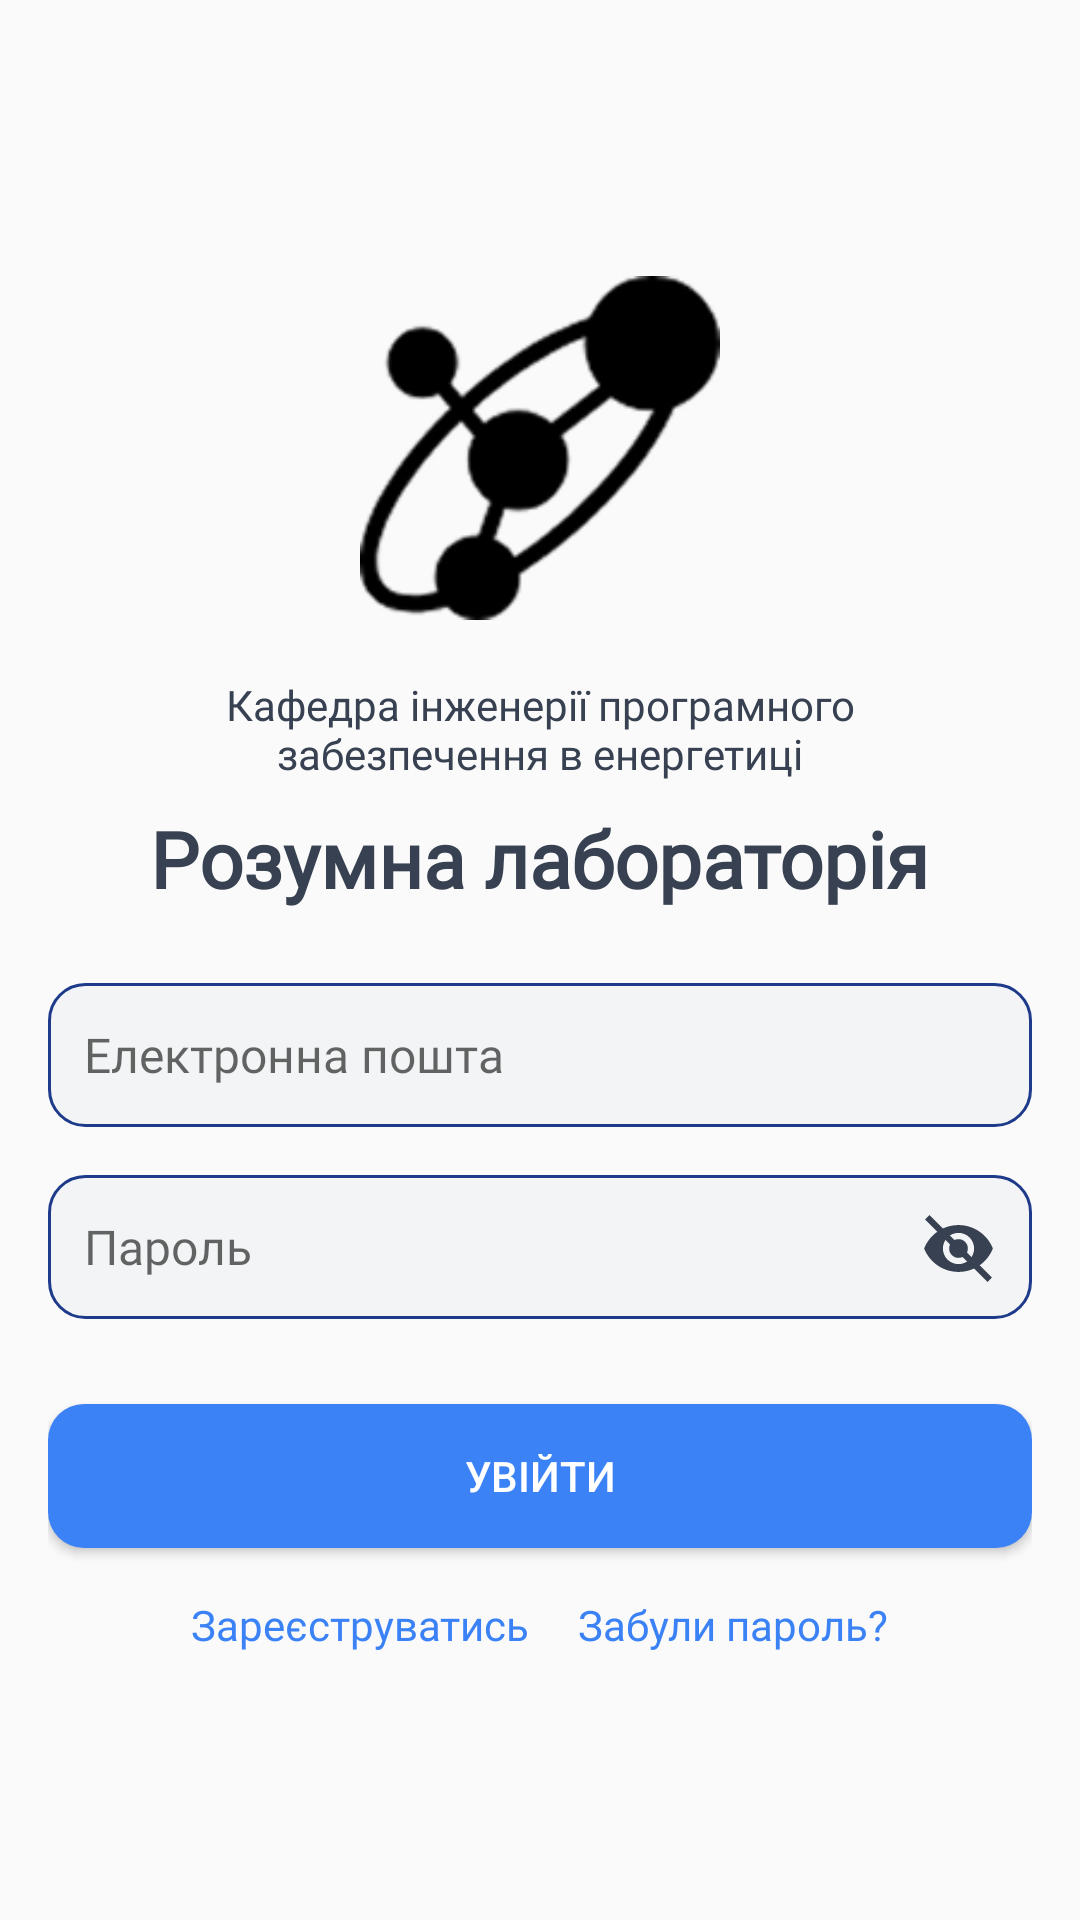

Icon bounding boxes for this 1080w x 1920h phone screenshot, format (x1, y1, x2, y2):
eye closed: (924, 1215, 993, 1282)
